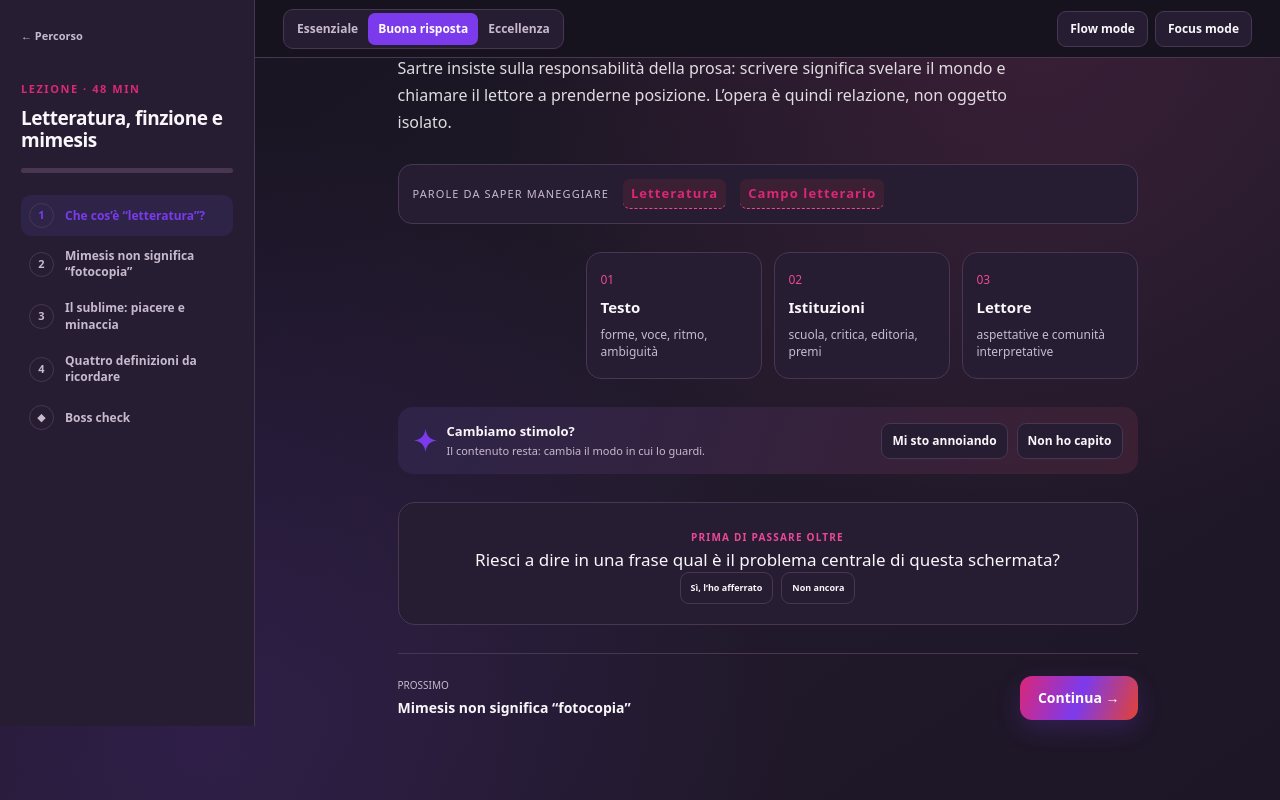
Test case: recupero attentivo nella lezione › cambia formato nello stesso punto con Mi sto annoiando
(page scrolled)
Click the button "Mi sto annoiando": (945, 441) [882,423,1008,459]
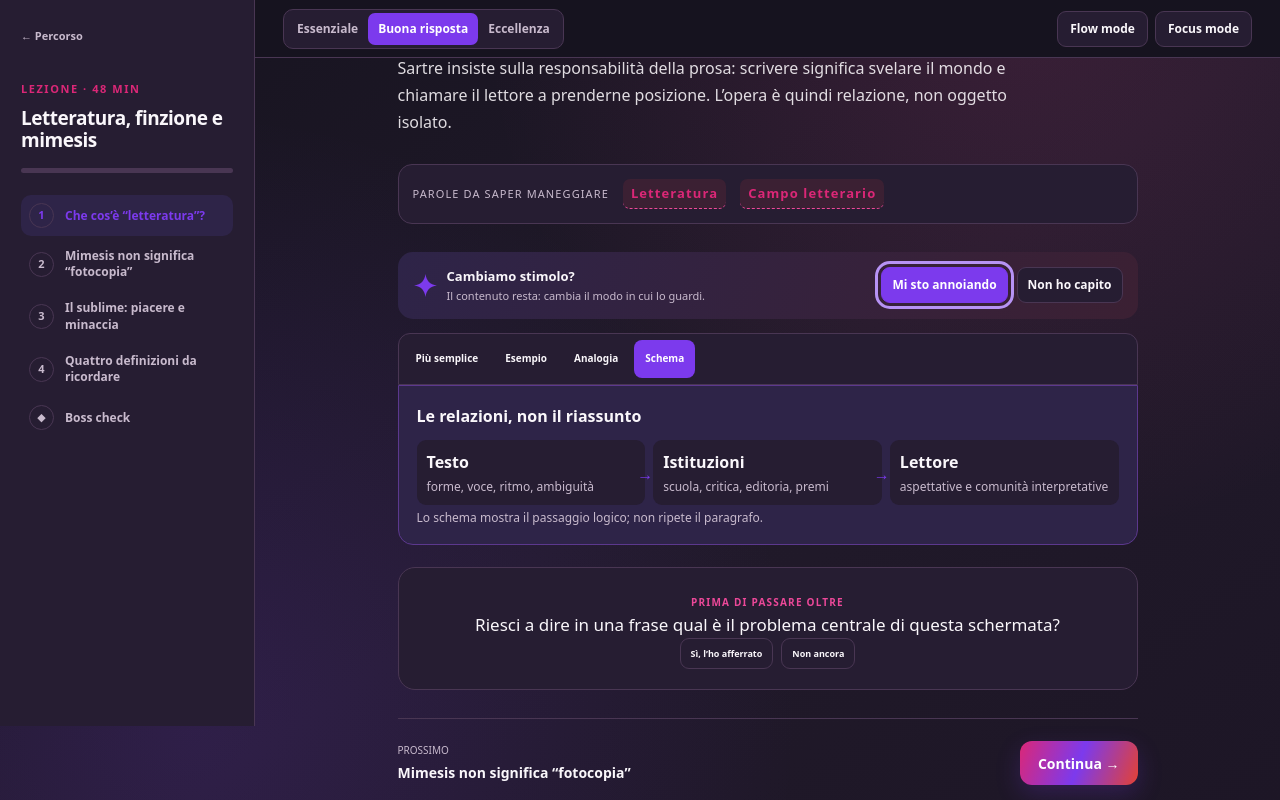
Expected: the button "Mi sto annoiando" is expanded, [882,267,1008,303]
Expected: the text "Le relazioni, non il riassunto" is shown, [416,404,641,426]
Expected: the text "Lo schema mostra il passaggio logico; non ripete il paragrafo." is shown, [416,509,763,526]
